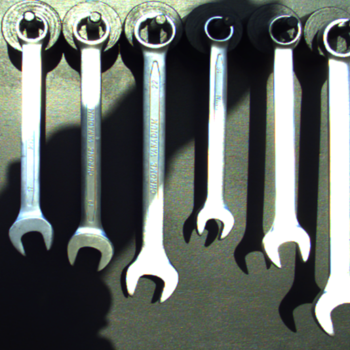bottom: (123, 251, 180, 304), (259, 223, 312, 271), (65, 226, 115, 273), (4, 212, 57, 256), (310, 280, 350, 338), (194, 200, 235, 241)
top: (131, 10, 179, 51), (315, 16, 350, 63), (71, 10, 112, 49), (264, 11, 304, 50), (14, 11, 52, 45), (201, 13, 237, 45)
